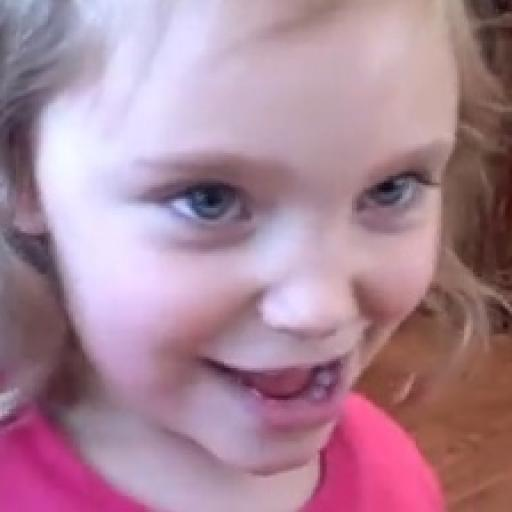Autism: (19, 2, 454, 507)
